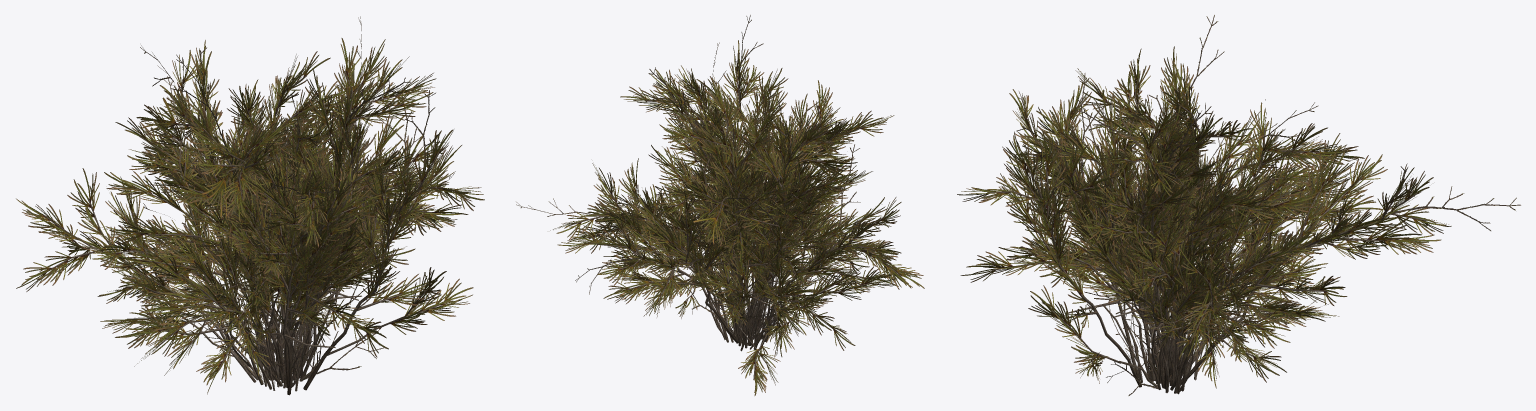
Rendered from rooibos.glb.
3 views of the same model, side by side, from view 1: azimuth 30°, elevation 25°; view 2: azimuth 150°, elevation 25°; view 3: azimuth 270°, elevation 25° (orthographic). The views are drawn at different scales.
Visible parts, largest first — view 1: rooibos_0, rooibos_1, rooibos_2, rooibos_3, rooibos_4; view 2: rooibos_0, rooibos_1, rooibos_2, rooibos_3, rooibos_4; view 3: rooibos_0, rooibos_1, rooibos_2, rooibos_3, rooibos_4.
Boxes of the visible parts, left/top/right/bottom form: rooibos_0: left=16, top=16, right=484, bottom=395; rooibos_1: left=100, top=54, right=473, bottom=387; rooibos_2: left=143, top=137, right=385, bottom=391; rooibos_3: left=202, top=91, right=398, bottom=388; rooibos_4: left=236, top=201, right=376, bottom=383; rooibos_0: left=516, top=15, right=924, bottom=357; rooibos_1: left=595, top=80, right=869, bottom=395; rooibos_2: left=605, top=99, right=872, bottom=351; rooibos_3: left=648, top=120, right=836, bottom=348; rooibos_4: left=692, top=171, right=827, bottom=346; rooibos_0: left=957, top=61, right=1520, bottom=393; rooibos_1: left=1028, top=15, right=1339, bottom=395; rooibos_2: left=1015, top=86, right=1327, bottom=394; rooibos_3: left=1071, top=139, right=1320, bottom=388; rooibos_4: left=1092, top=191, right=1190, bottom=383.
Bounding box in the file's own units: 0.6966 × 0.5413 × 0.8434.
1 material, 1 textured.
